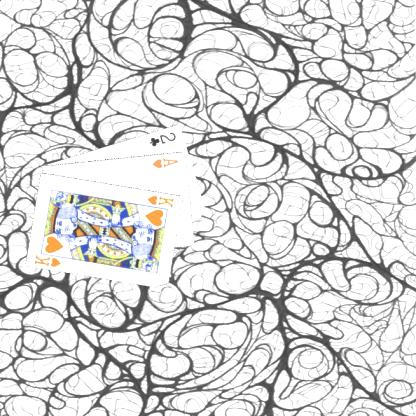2C: (147, 129, 177, 148)
AH: (150, 155, 180, 169)
KH: (144, 192, 175, 209), (32, 252, 62, 268)
